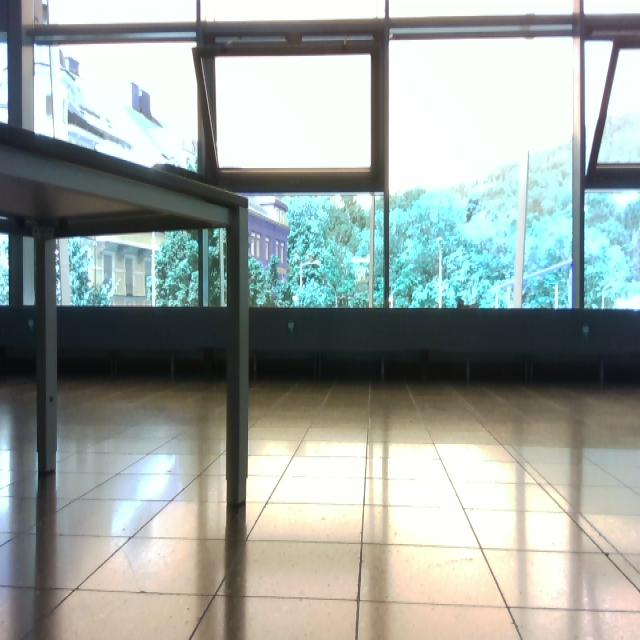light bulb: (150, 232, 167, 252)
pillar: (34, 232, 58, 474)
tiled floor: (2, 375, 639, 639)
window: (2, 1, 639, 314)
